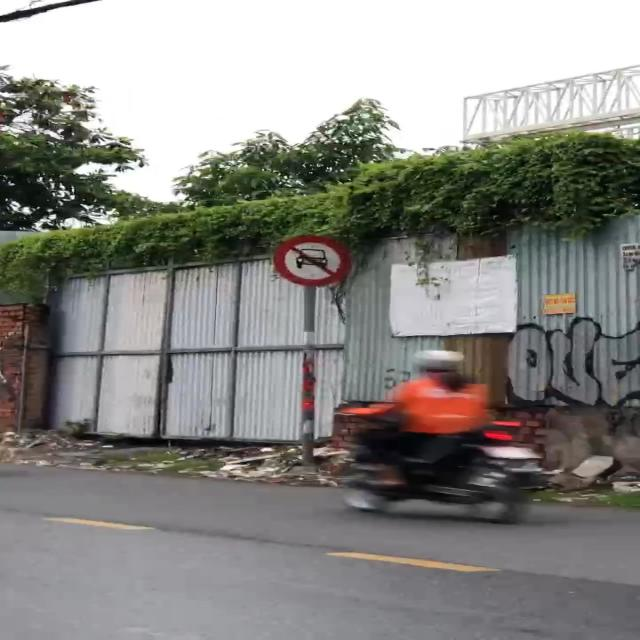Bien bao cam xe oto: (268, 234, 360, 287)
